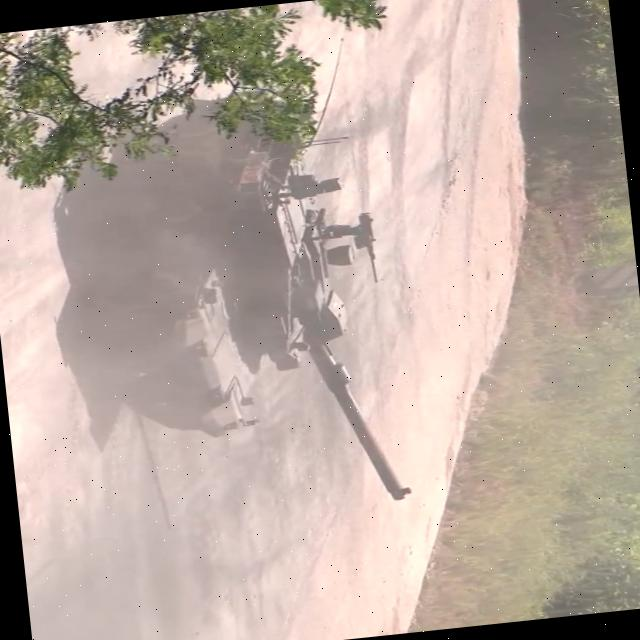korea tank: (62, 74, 416, 530)
